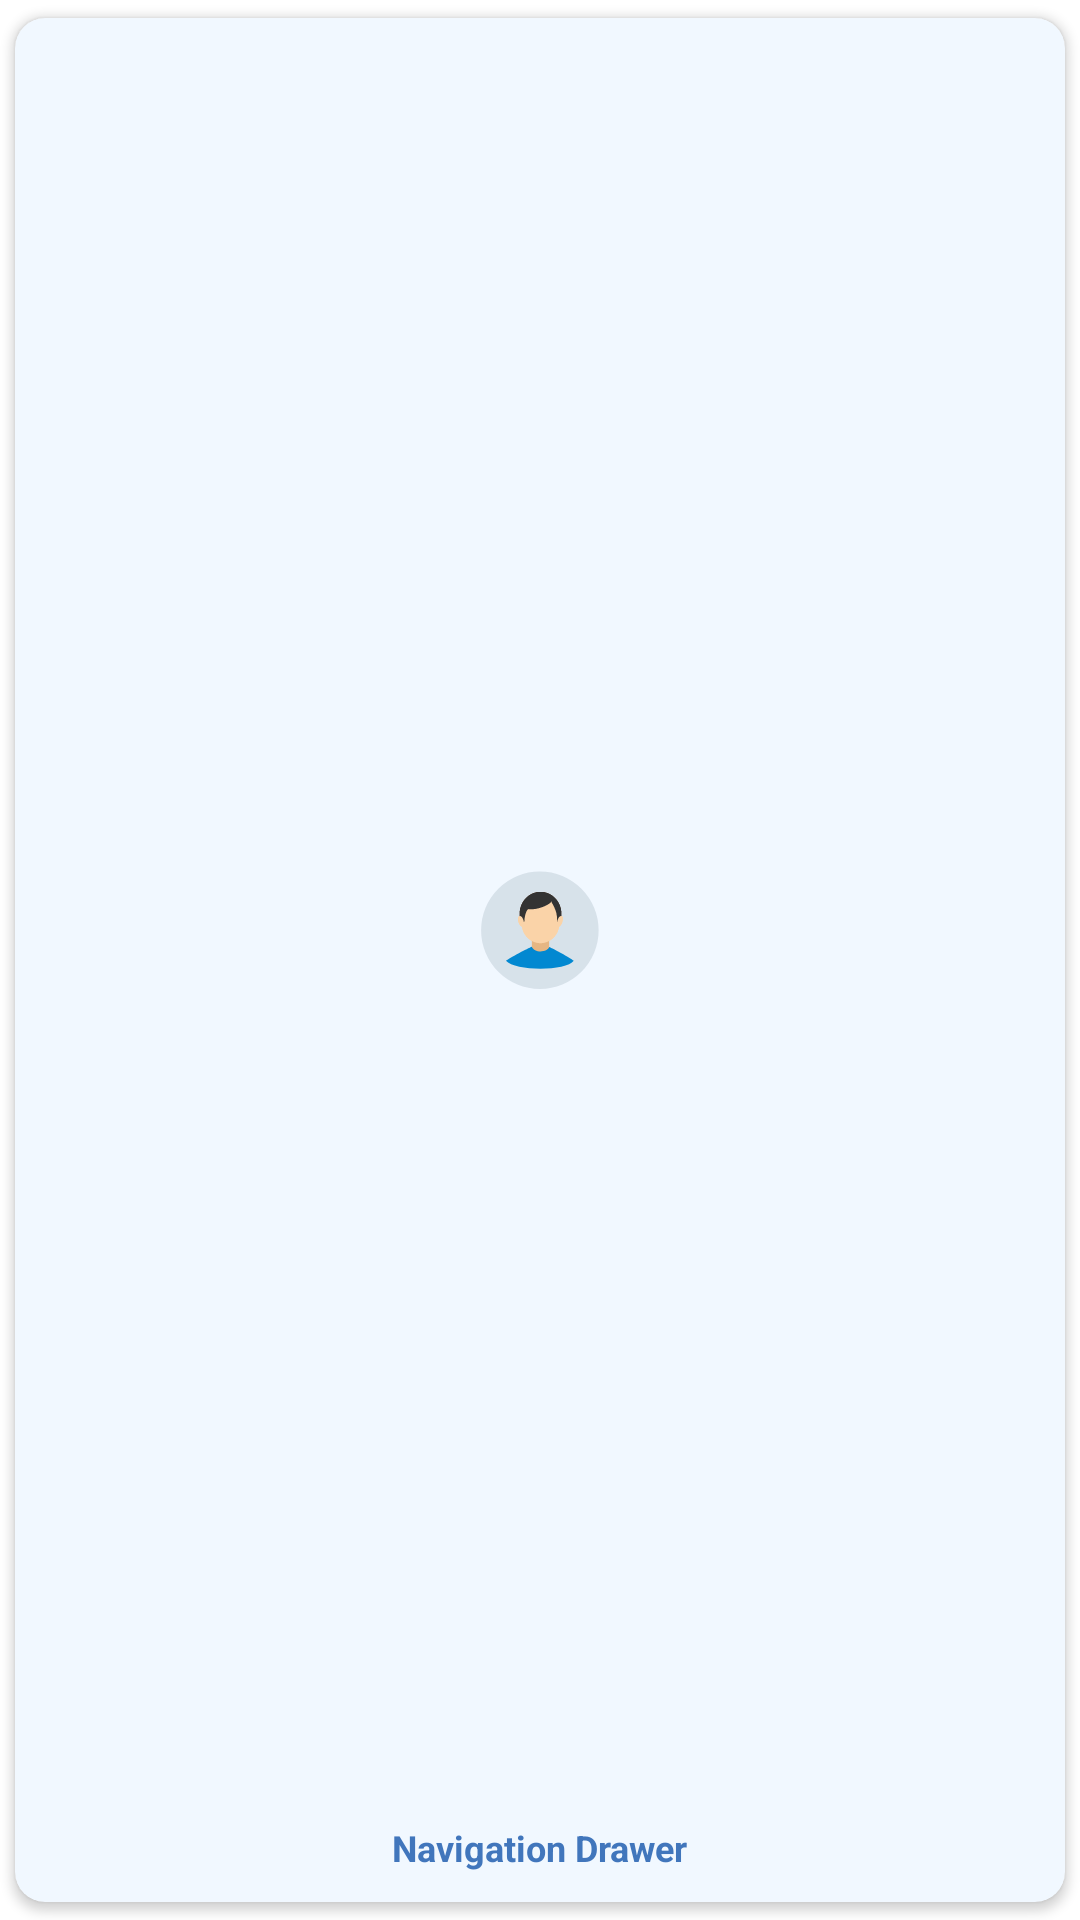

Icons on this 1080px×1920px Android screen, each with the point to tap as (x,y):
user head: (540,930)
